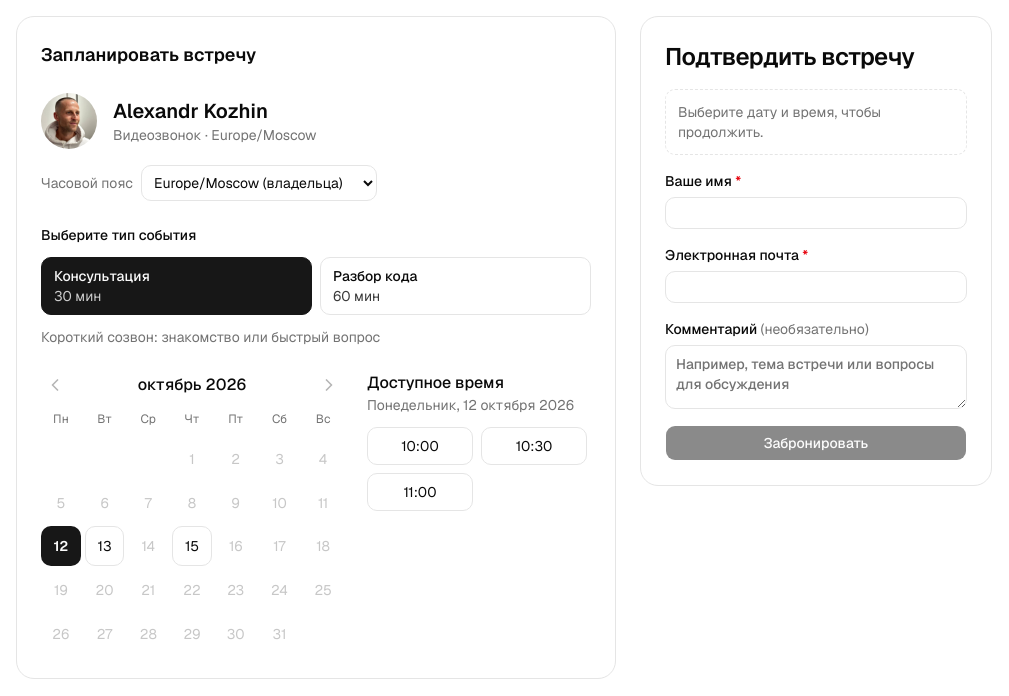
Test: главный экран записи › переключение типа события загружает его слоты и описание
Click the radio button labelled "Разбор кода 60 мин" at point(375, 276), box left=320, top=257, right=591, bottom=315
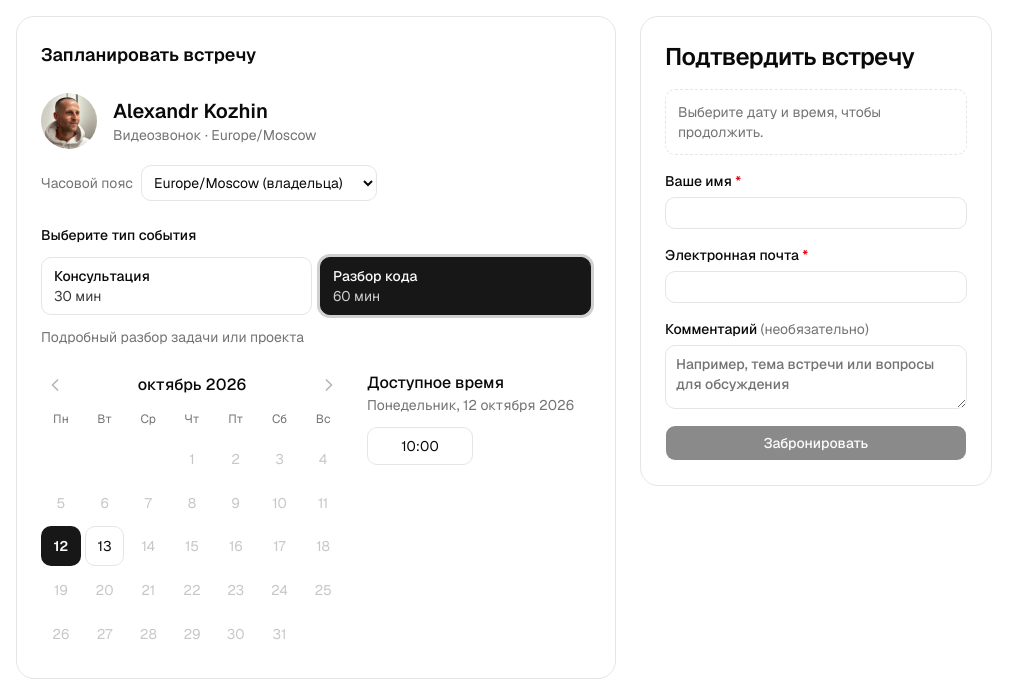
Result: the text "Подробный разбор задачи или проекта" is shown at left=41, top=328, right=304, bottom=346
Result: the button named "15 октября" is disabled at left=172, top=526, right=212, bottom=566
